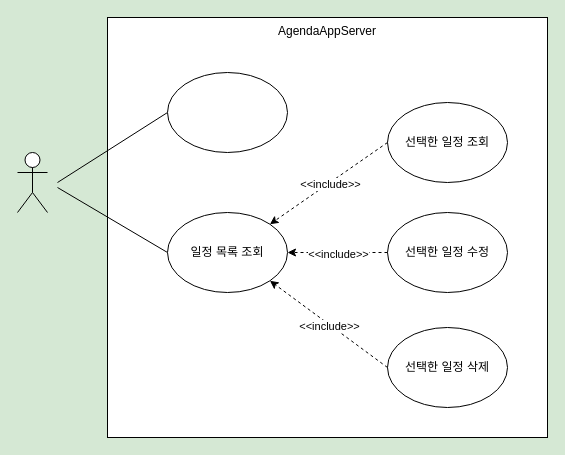
This 565x455 diagram has some shape labels left out. The box of each missing label's shape, as (x1, y1, x2, y2) in pixels:
Actor: (16, 152, 48, 212)
일정 작성: (166, 72, 288, 152)
